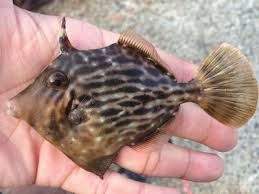kawahagi: (5, 7, 181, 183)
